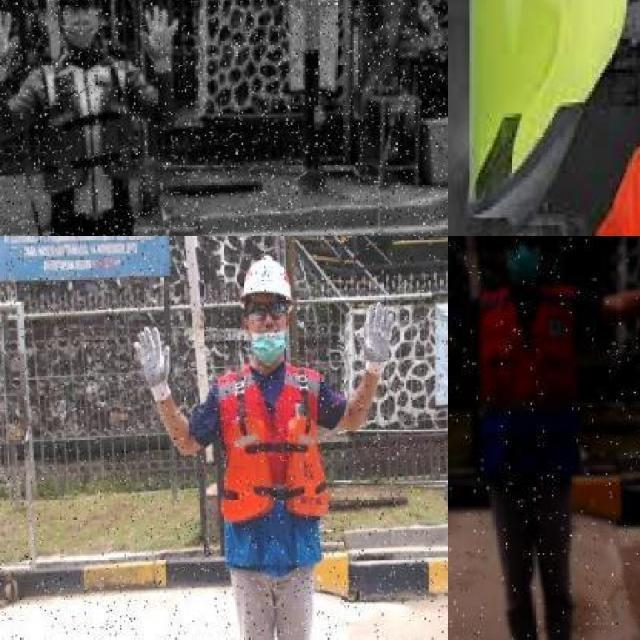apron: (132, 309, 178, 415), (356, 299, 396, 382), (138, 4, 181, 78), (0, 6, 19, 84)
